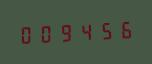five: (94, 19, 112, 42)
four: (75, 20, 93, 43)
nine: (56, 21, 74, 44)
six: (113, 18, 131, 41)
zero: (17, 23, 35, 46), (36, 22, 54, 45)
